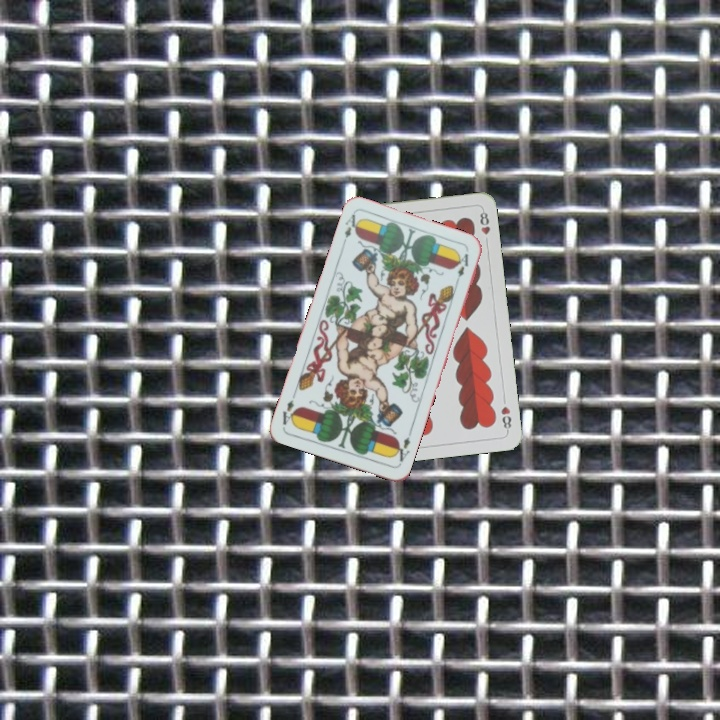EA: (389, 427, 414, 467), (338, 210, 363, 248)
H8: (497, 402, 514, 434)
